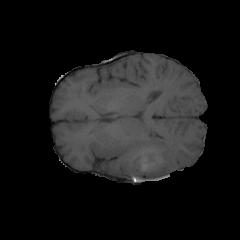glioma: (118, 137, 175, 178)
